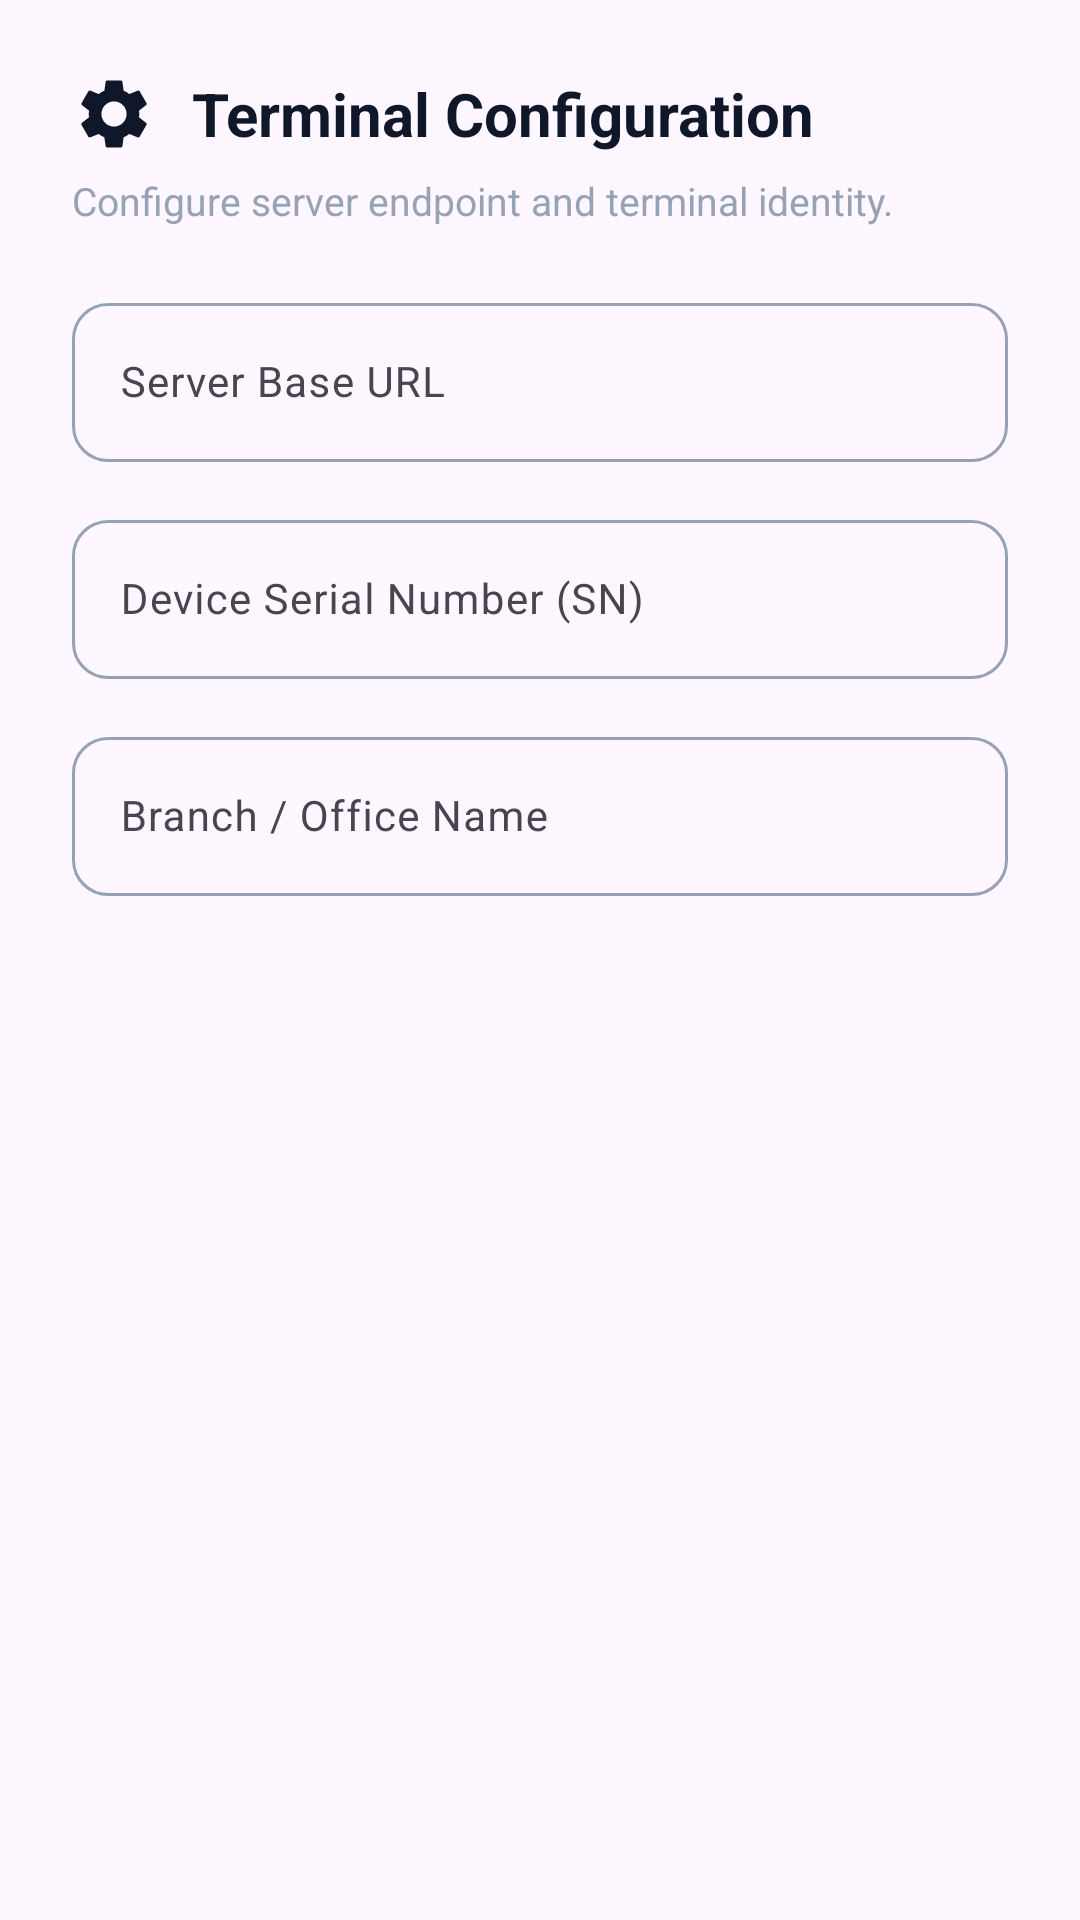

Screen size 1080*1920. Icon name, then its box in pixels as region(x1, y1, x2, y2):
Settings icon: region(81, 80, 147, 148)
